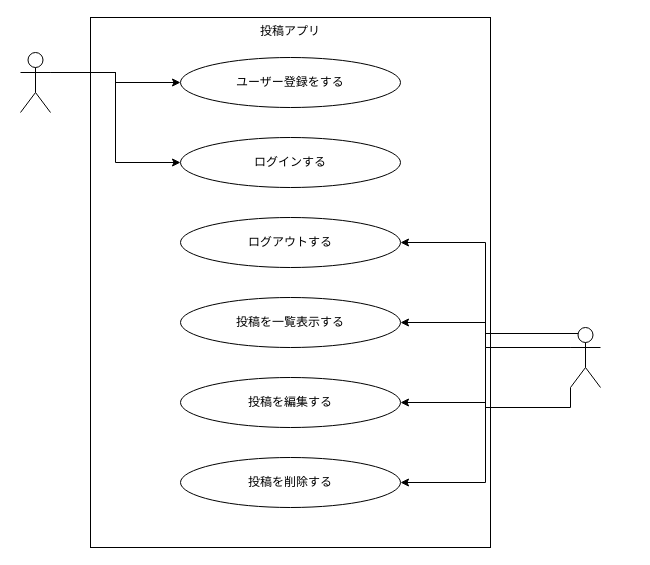
This 650x565 diagram has some shape labels left out. The shapes that lost their labels are listed below. From the top down, each one's box as (x1, y1, x2, y2) in pixels, then its label:
(20, 52, 50, 112): 訪問者
(570, 326, 600, 388): ログインユーザー
